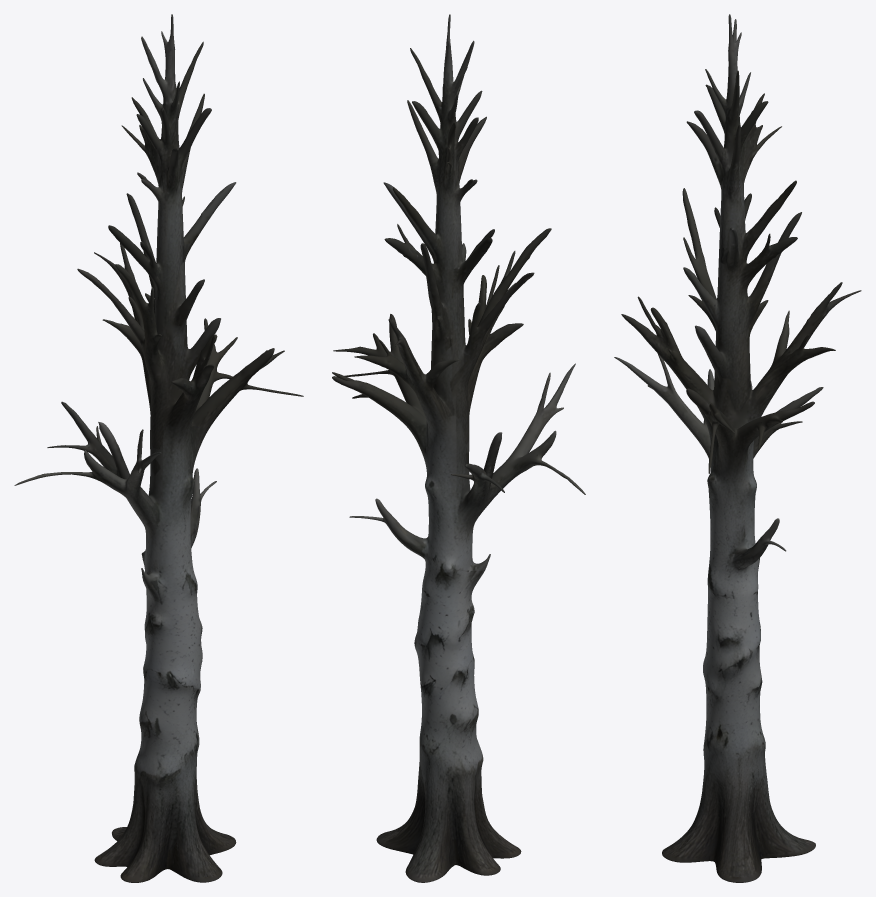
File: elm.glb
3 renders of one model, left to right at view 1: azimuth 30°, elevation 25°; view 2: azimuth 150°, elevation 25°; view 3: azimuth 270°, elevation 25°, orthographic.
Parts seen in each view (by area): view 1: node_0; view 2: node_0; view 3: node_0.
Part boxes in pixels (x1=…): node_0: x1=14, y1=14, x2=303, y2=882; node_0: x1=332, y1=14, x2=585, y2=882; node_0: x1=614, y1=14, x2=861, y2=882.
Size of the model in its own units: 0.3944 by 1.18 by 0.317.
1 material, 1 textured.
